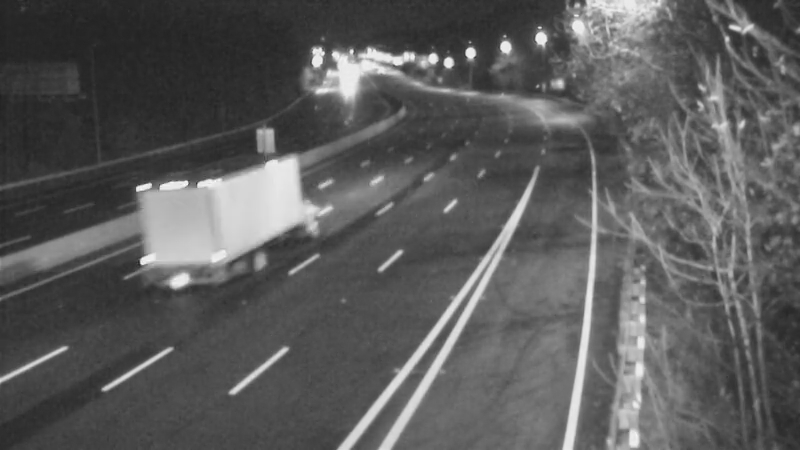vehicle: (157, 173, 237, 253), (321, 51, 371, 101)
